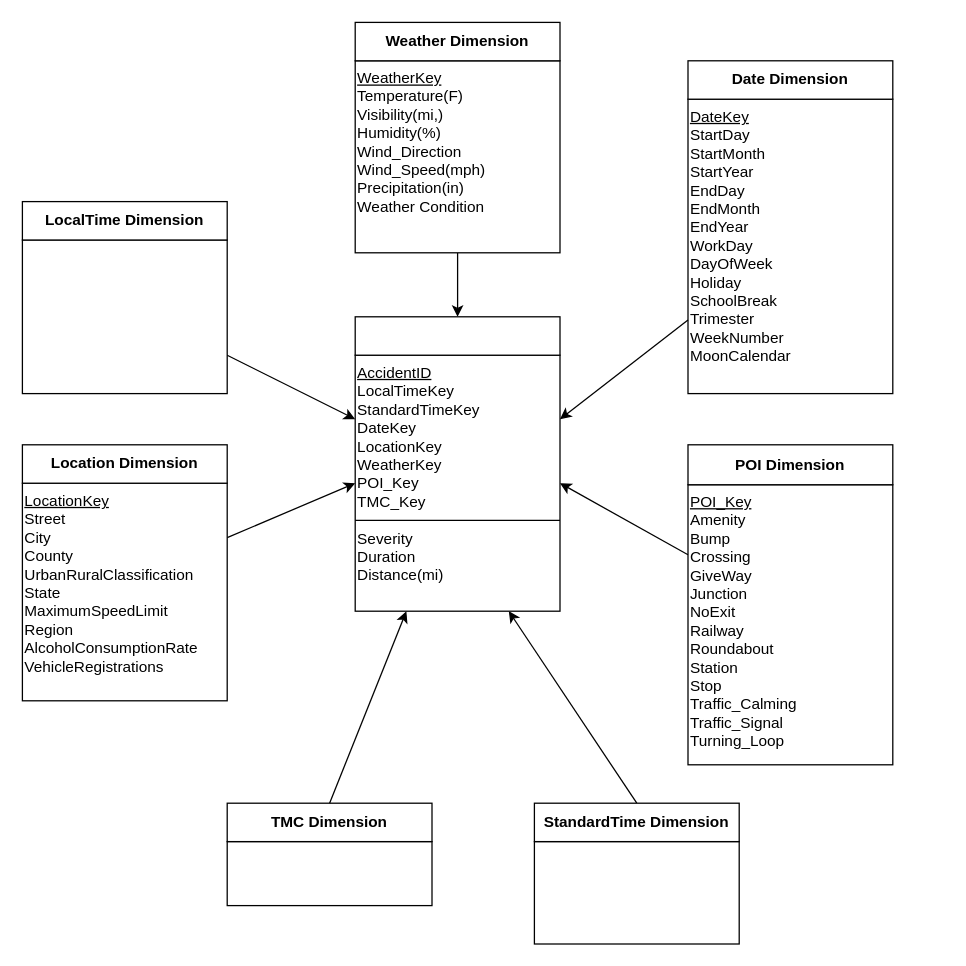
This 966x966 diagram has some shape labels left out. The centre of each missing label's shape, as x and y in pixels:
"Facts Table" belongs at [457,335].
"LocalTimeKey StartHour EndHour Sunrise_Sunset PeriodOfDay Timezone" belongs at [124,316].
"StandardTimeKey StartHour EndHour StandardTimezone" belongs at [636,892].
"TMC_Key Event" belongs at [329,873].
